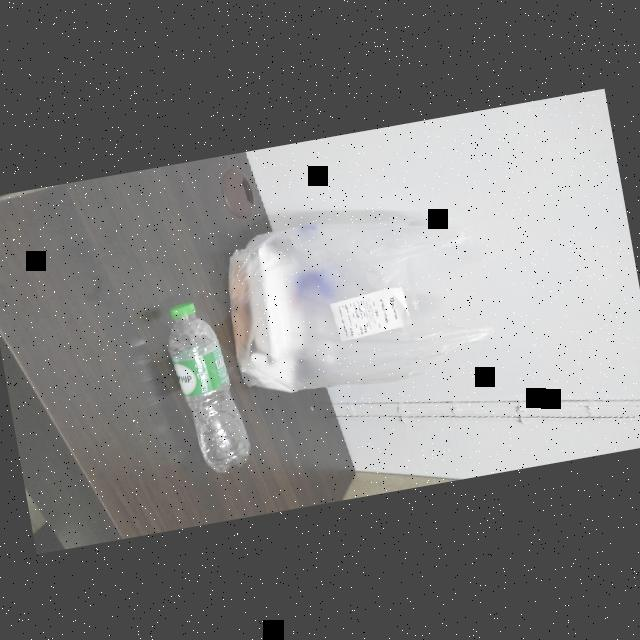plastic_bag: (218, 190, 504, 411)
plastic_bottle: (150, 287, 257, 483), (278, 222, 352, 384)
plastic_bottle_cap: (168, 298, 196, 320)
scrap_paper: (327, 282, 412, 343)
